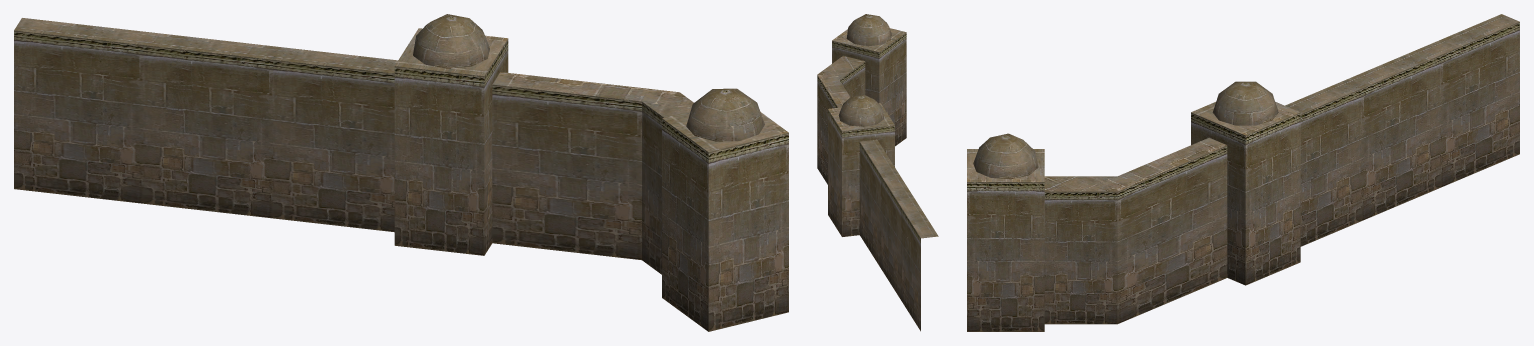
File: M7Z1_CityWall2C2.glb
The picture shows the model from 3 angles, left to right: view 1: azimuth 30°, elevation 25°; view 2: azimuth 150°, elevation 25°; view 3: azimuth 270°, elevation 25°; orthographic projection. The views are drawn at different scales.
Parts seen in each view (by area): view 1: M7Z1_CITYWALL2C2; view 2: M7Z1_CITYWALL2C2; view 3: M7Z1_CITYWALL2C2.
Boxes of the visible parts, x1,y1,x2,y2 form: M7Z1_CITYWALL2C2: [14, 14, 788, 331]; M7Z1_CITYWALL2C2: [817, 14, 938, 331]; M7Z1_CITYWALL2C2: [967, 14, 1519, 331].
Size of the model in its own units: 12 by 5.41 by 15.12.
1 material, 1 textured.
